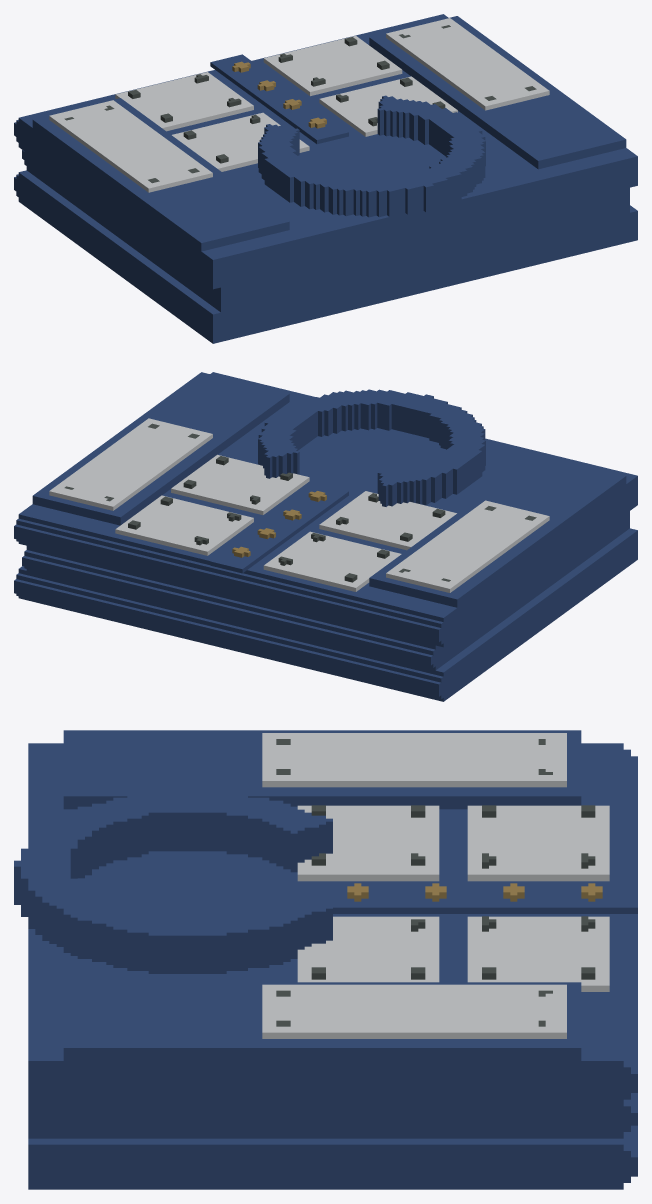
File: jacket_jean_mod.glb
3 views of the same model, one above another, from view 1: azimuth 30°, elevation 25°; view 2: azimuth 150°, elevation 25°; view 3: azimuth 270°, elevation 25° (orthographic). The views are drawn at different scales.
Parts seen in each view (by area): view 1: jacket_jean_mod:compound; view 2: jacket_jean_mod:compound; view 3: jacket_jean_mod:compound.
Boxes of the visible parts, <box> form: jacket_jean_mod:compound: <box>14,14,637,343</box>; jacket_jean_mod:compound: <box>14,372,637,701</box>; jacket_jean_mod:compound: <box>14,730,637,1189</box>.
Bounding box in the file's own units: 0.424 × 0.104 × 0.352.
